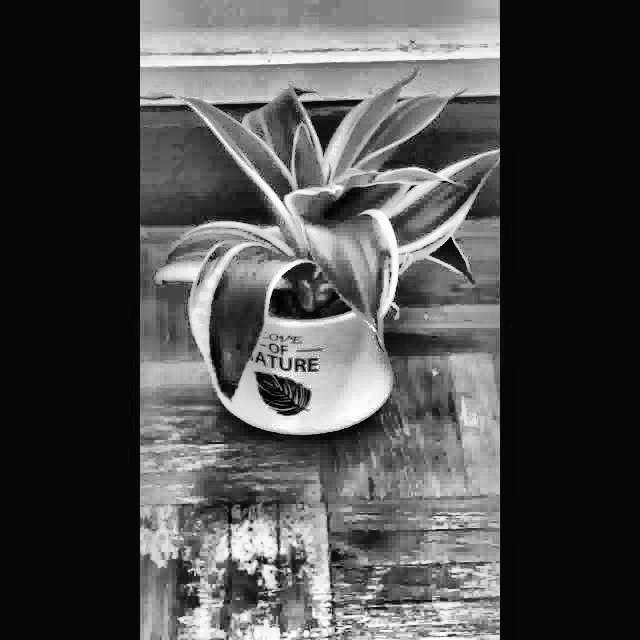plants: (140, 63, 500, 444)
